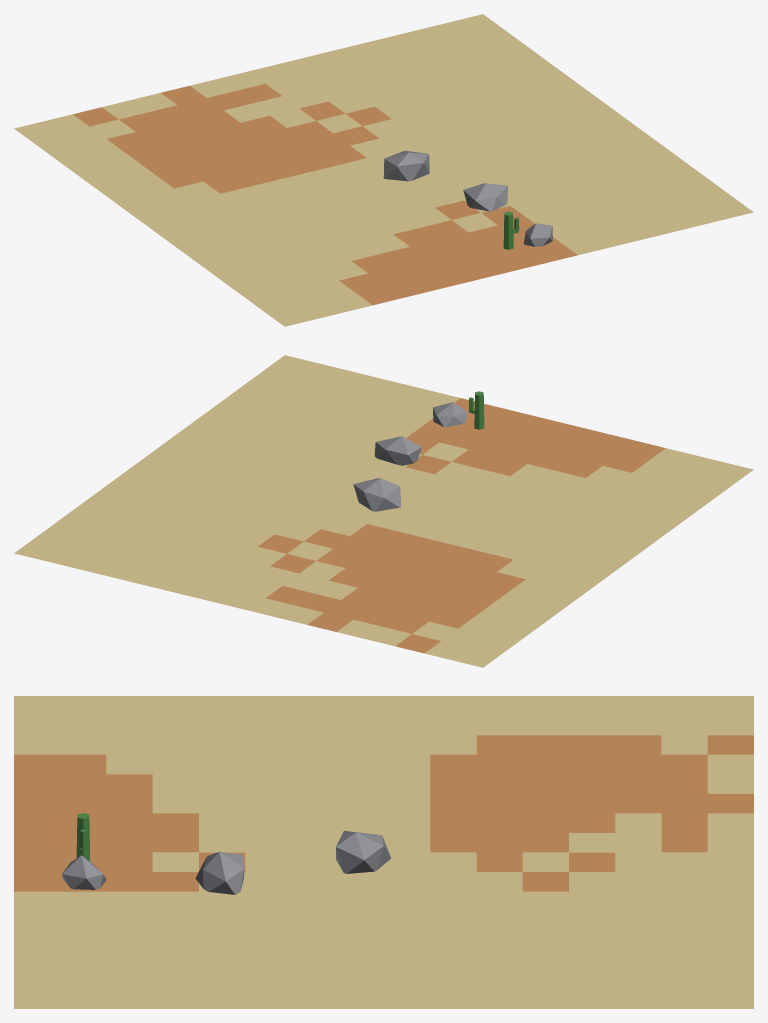
Rendered from chunk_11_21.glb.
3 renders of one model, top to bottom at view 1: azimuth 30°, elevation 25°; view 2: azimuth 150°, elevation 25°; view 3: azimuth 270°, elevation 25°, orthographic. The views are drawn at different scales.
Parts seen in each view (by area): view 1: chunk_11_21; view 2: chunk_11_21; view 3: chunk_11_21.
Part boxes in pixels (left/top/right/bottom): chunk_11_21: left=14, top=14, right=753, bottom=326; chunk_11_21: left=14, top=355, right=753, bottom=667; chunk_11_21: left=14, top=696, right=753, bottom=1008.
Bounding box in the file's own units: 16 × 1.54 × 16.
